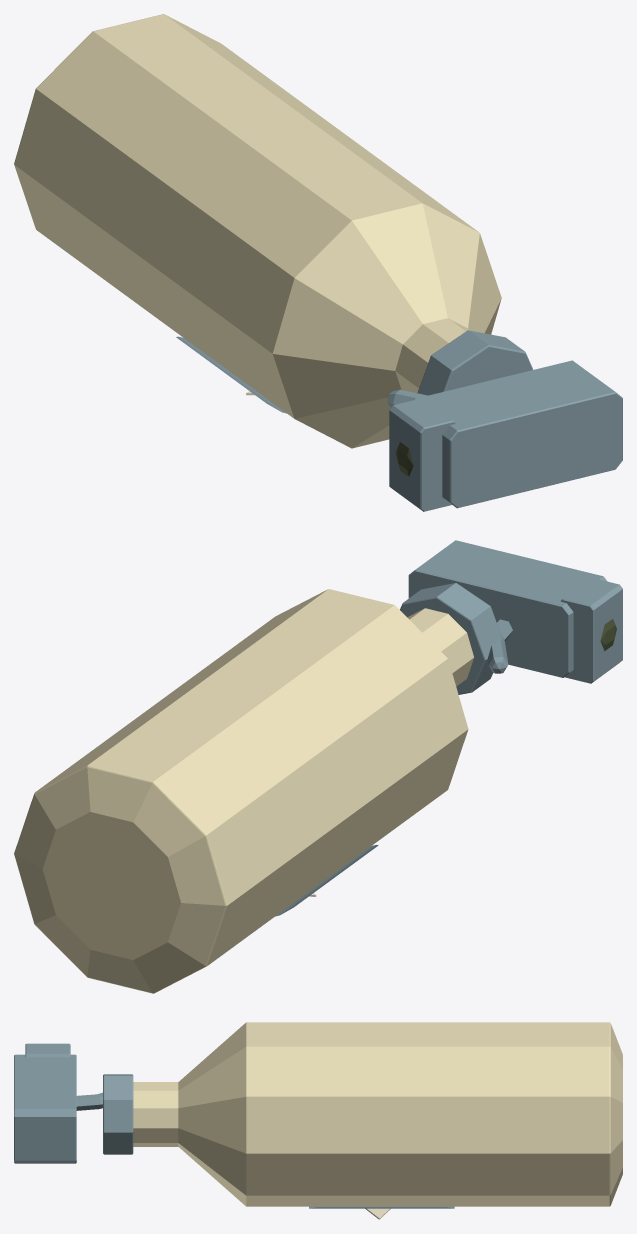
Rendered from cleaning_spray.glb.
3 renders of one model, top to bottom at view 1: azimuth 30°, elevation 25°; view 2: azimuth 150°, elevation 25°; view 3: azimuth 270°, elevation 25°, orthographic. The views are drawn at different scales.
Visible parts, largest first — view 1: cleaning_spray; view 2: cleaning_spray; view 3: cleaning_spray.
Boxes of the visible parts, <box> form: cleaning_spray: <box>14,14,622,511</box>; cleaning_spray: <box>14,540,622,993</box>; cleaning_spray: <box>14,1022,622,1219</box>.
Size of the model in its own units: 0.0776 by 0.0745 by 0.2425.
